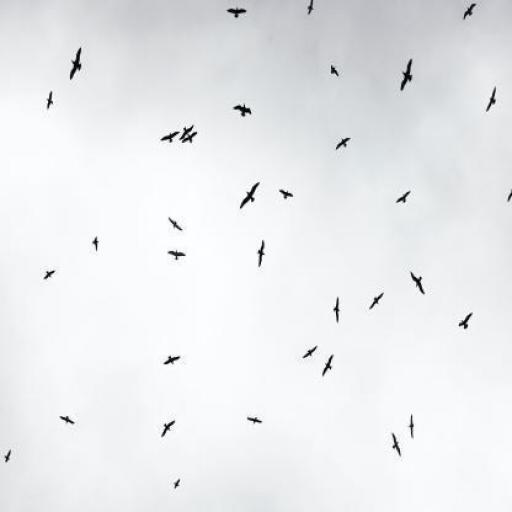bird: (240, 184, 260, 210), (401, 59, 414, 92), (70, 48, 81, 81), (411, 272, 426, 294), (233, 102, 252, 117), (322, 356, 334, 378), (486, 86, 496, 112), (168, 216, 184, 232), (369, 293, 384, 310), (162, 420, 176, 437), (228, 5, 247, 17), (258, 240, 266, 268), (459, 312, 473, 328), (167, 250, 186, 261), (302, 346, 318, 359), (464, 4, 476, 21), (393, 433, 401, 458), (160, 132, 180, 142), (180, 126, 194, 140), (336, 138, 351, 151), (181, 132, 197, 144), (396, 191, 411, 203), (164, 356, 181, 366), (335, 296, 341, 324), (59, 416, 75, 426), (408, 412, 414, 438), (278, 190, 293, 200), (47, 91, 54, 111), (307, 0, 315, 16), (44, 270, 56, 280), (331, 65, 340, 78), (248, 417, 262, 425), (5, 449, 12, 463), (94, 236, 100, 251), (174, 479, 180, 490), (507, 188, 511, 203)
